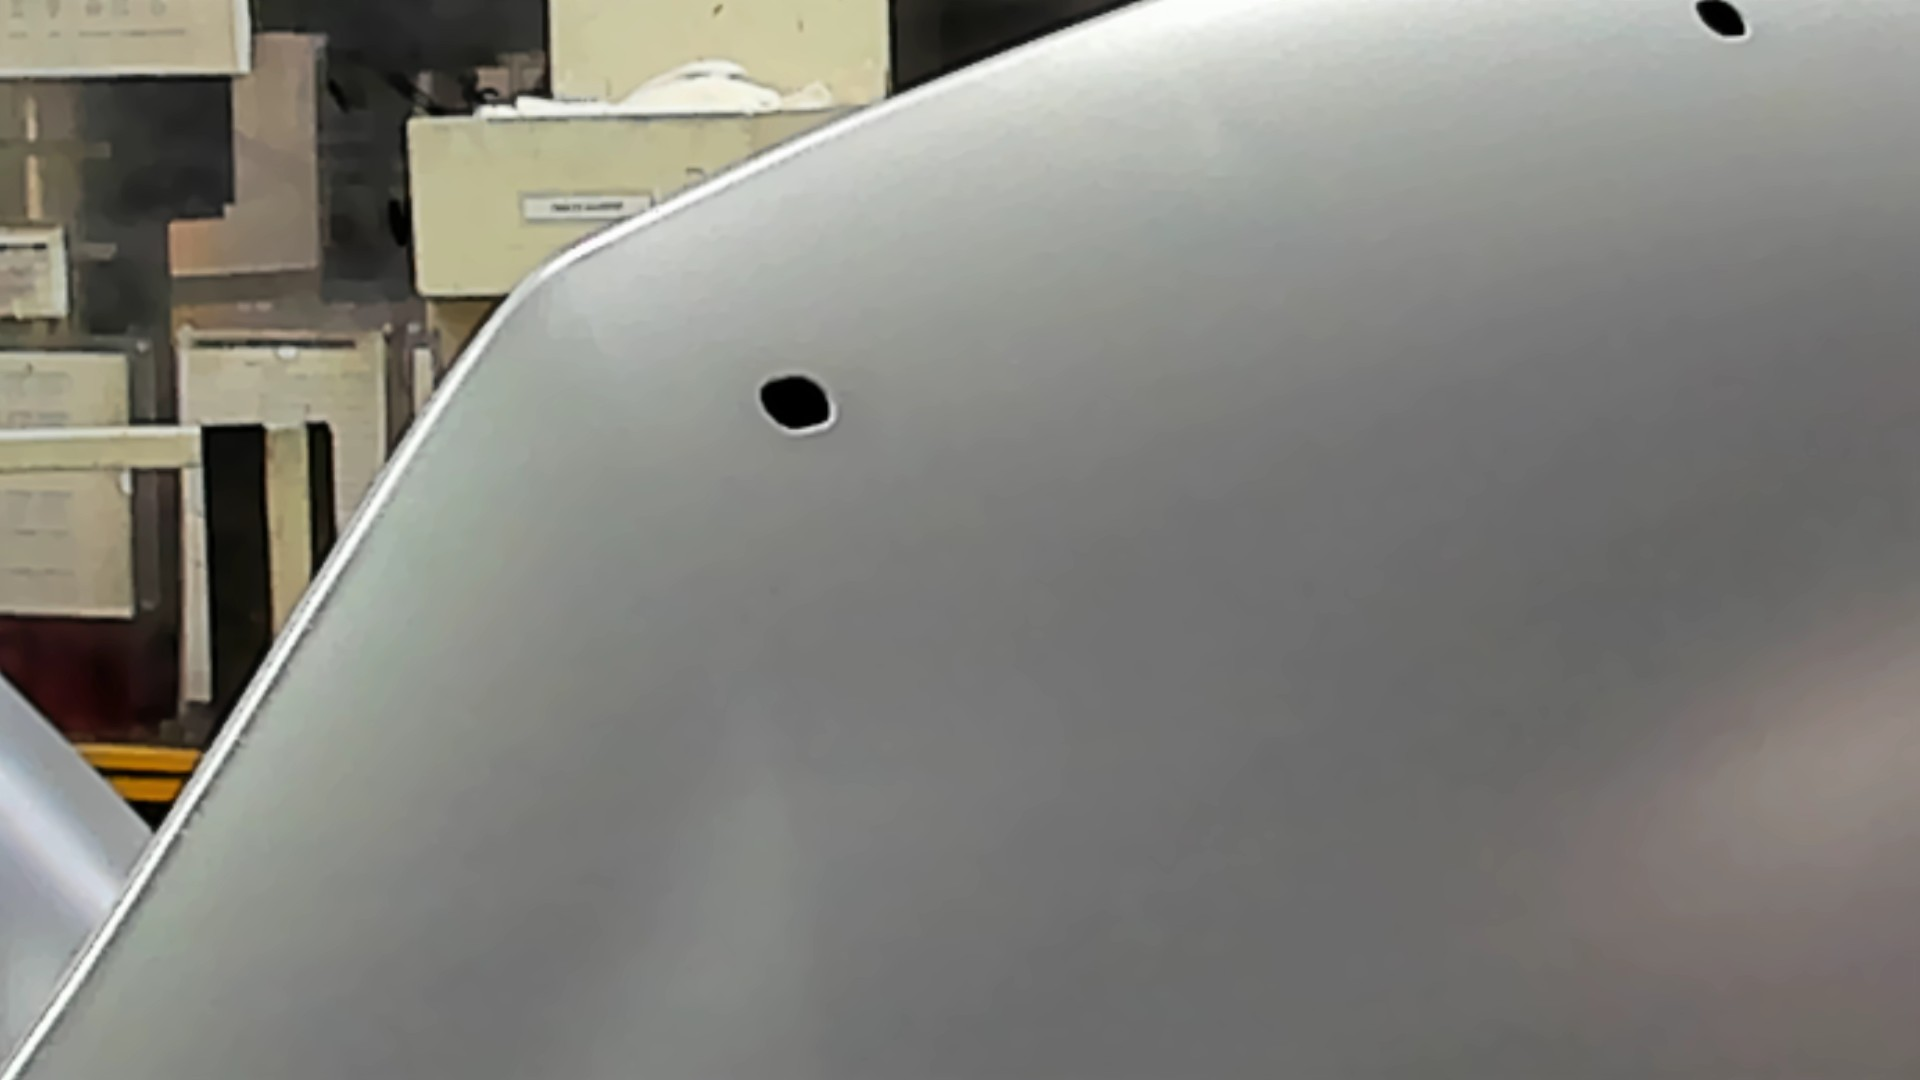amorfo: (752, 372, 841, 436), (1691, 1, 1756, 47)
